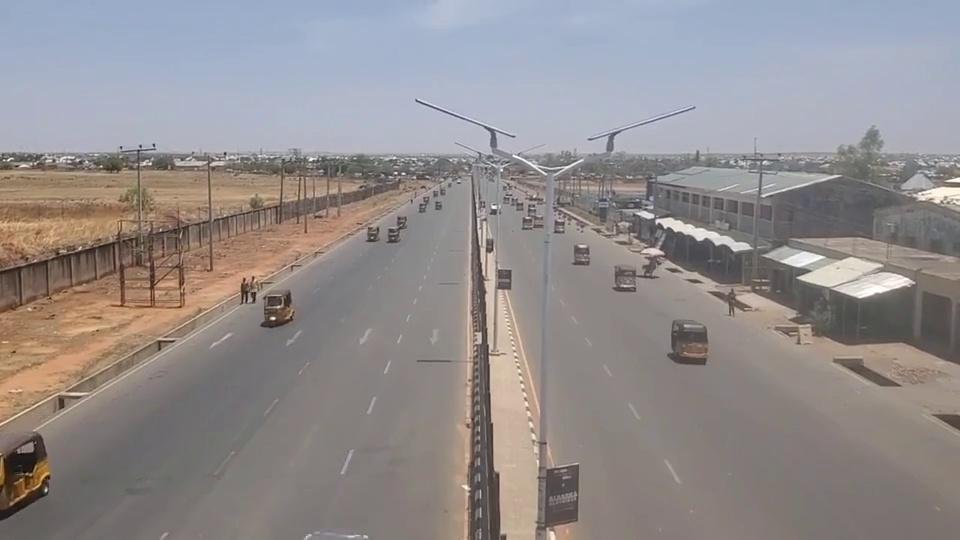keke: (0, 429, 51, 519), (670, 318, 708, 361), (262, 288, 294, 326), (614, 264, 637, 291), (573, 243, 591, 265), (387, 226, 401, 242), (367, 225, 380, 241), (522, 216, 534, 230), (554, 218, 565, 233), (396, 215, 407, 228), (419, 202, 428, 213), (435, 200, 442, 210)
